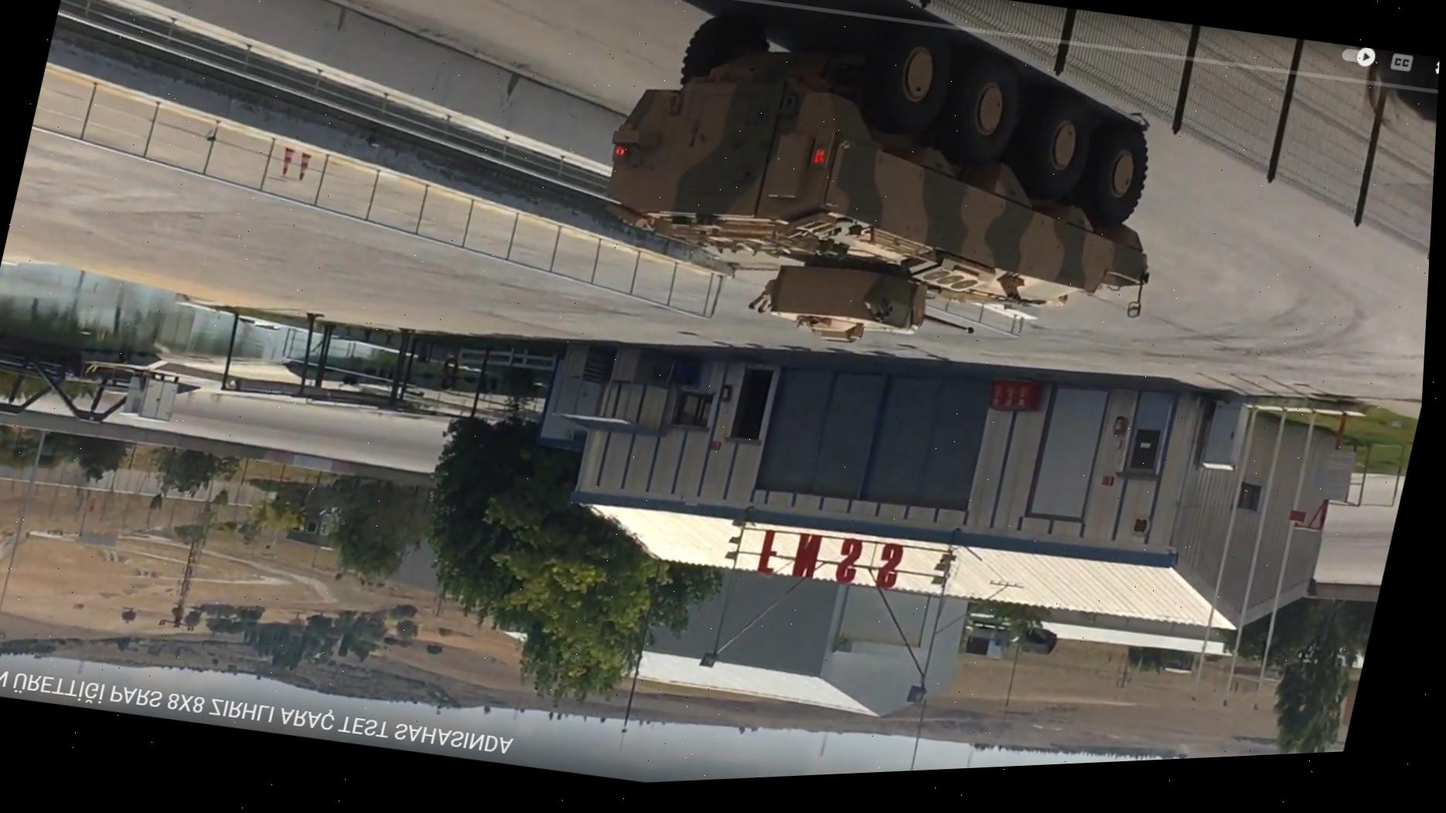armored_car: (552, 0, 1212, 417)
